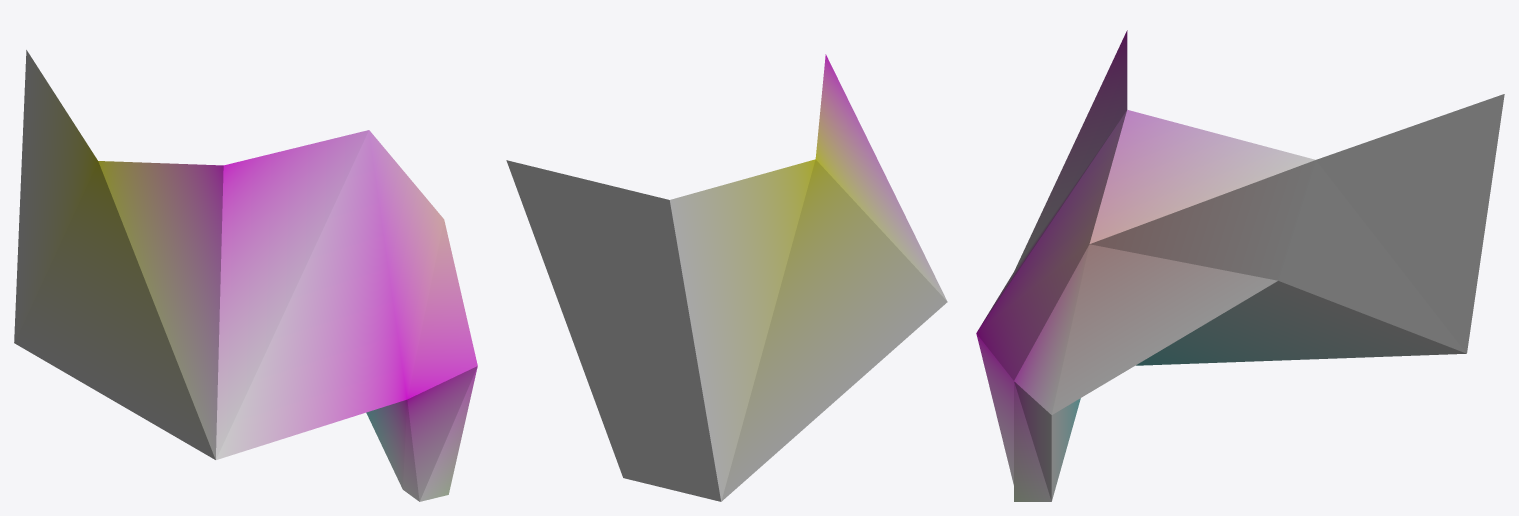
3 views of the same model, side by side, from view 1: azimuth 30°, elevation 25°; view 2: azimuth 150°, elevation 25°; view 3: azimuth 270°, elevation 25° (orthographic). The views are drawn at different scales.
Parts seen in each view (by area): view 1: model_1154; view 2: model_1154; view 3: model_1154.
Part boxes in pixels (x1,y1,x2,y2): model_1154: [14, 50, 477, 501]; model_1154: [506, 54, 947, 501]; model_1154: [976, 30, 1504, 501].
Bounding box in the file's own units: 9 × 11 × 14.
